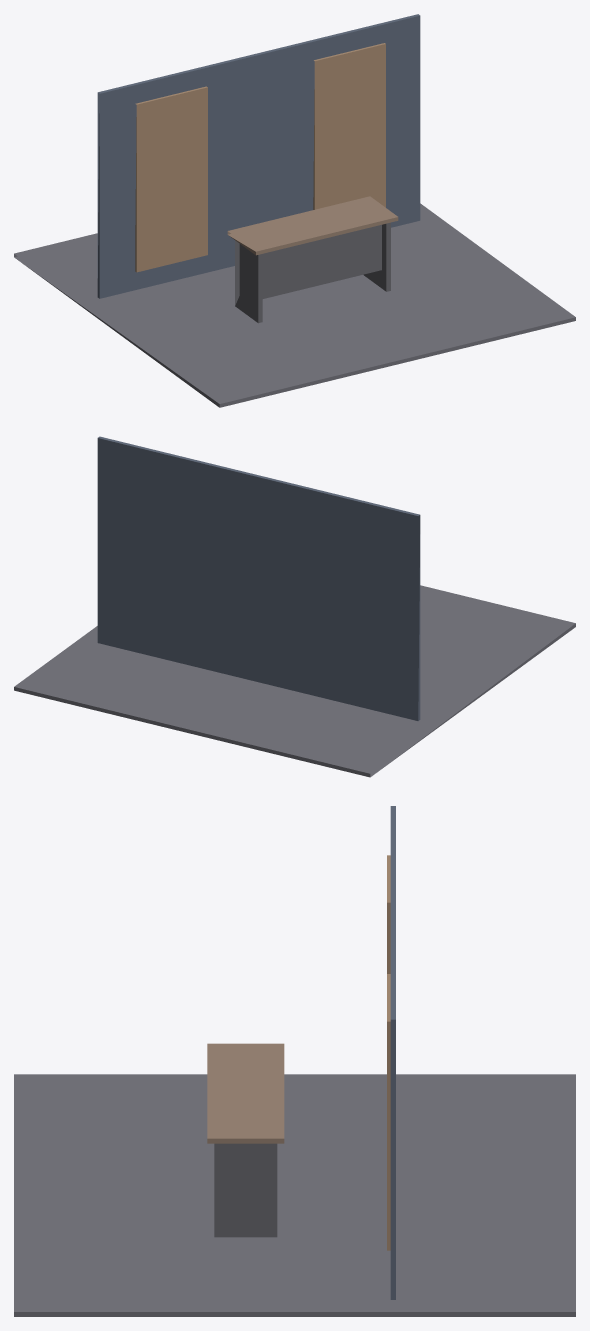
File: default_stage.glb
The picture shows the model from 3 angles, top to bottom: view 1: azimuth 30°, elevation 25°; view 2: azimuth 150°, elevation 25°; view 3: azimuth 270°, elevation 25°; orthographic projection. The views are drawn at different scales.
Visible parts, largest first — view 1: StudioFloor, BackWallAcoustic, AcousticWoodSlats, DeskBaseDark, DeskTopWalnut; view 2: BackWallAcoustic, StudioFloor; view 3: StudioFloor, DeskTopWalnut, DeskBaseDark, BackWallAcoustic, AcousticWoodSlats.
Boxes of the visible parts, bbox=[...] form: StudioFloor: bbox=[14, 203, 575, 407]; BackWallAcoustic: bbox=[97, 14, 420, 298]; AcousticWoodSlats: bbox=[135, 43, 385, 272]; DeskBaseDark: bbox=[235, 222, 390, 323]; DeskTopWalnut: bbox=[227, 196, 398, 255]; BackWallAcoustic: bbox=[97, 436, 420, 720]; StudioFloor: bbox=[14, 585, 575, 777]; StudioFloor: bbox=[14, 1074, 575, 1316]; DeskTopWalnut: bbox=[207, 1043, 284, 1143]; DeskBaseDark: bbox=[214, 1143, 277, 1237]; BackWallAcoustic: bbox=[390, 806, 395, 1299]; AcousticWoodSlats: bbox=[387, 855, 390, 1250].
Size of the model in its own units: 40 by 22.4 by 40.
